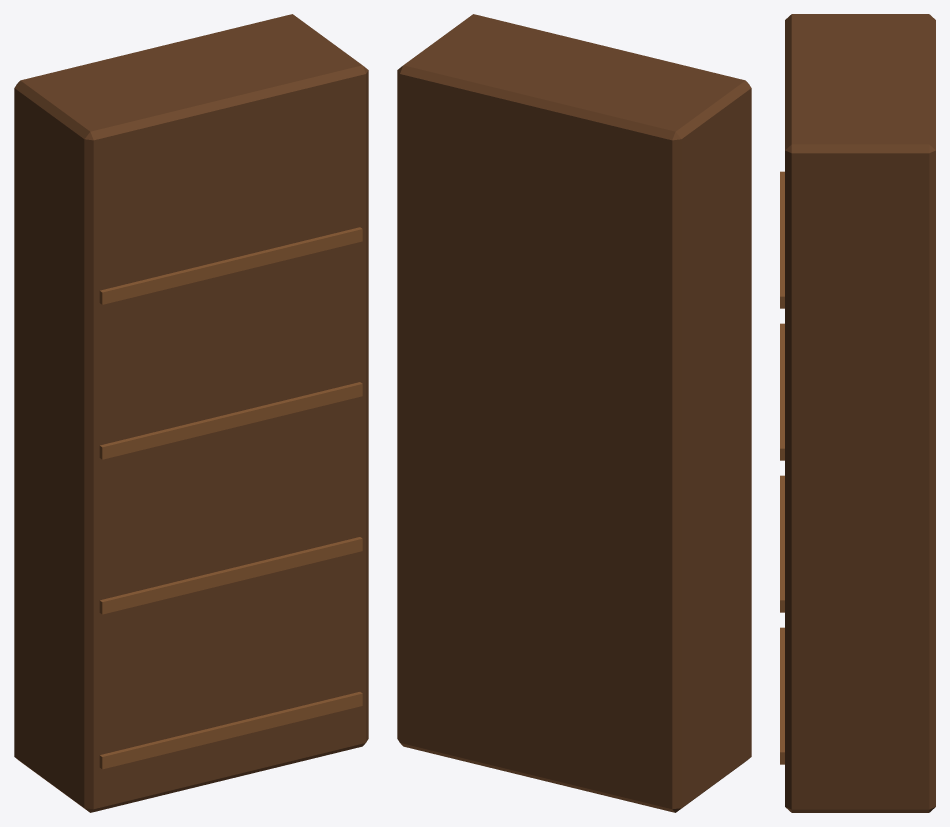
The model's file is furn_bookshelf.glb.
3 renders of one model, left to right at view 1: azimuth 30°, elevation 25°; view 2: azimuth 150°, elevation 25°; view 3: azimuth 270°, elevation 25°, orthographic.
Parts seen in each view (by area): view 1: case, board, board.001, board.002, board.003; view 2: case; view 3: case, board, board.001, board.002, board.003.
Boxes of the visible parts, box(x1,y1,x2,y2) form: case: box(14, 14, 368, 812); board: box(99, 692, 362, 769); board.001: box(99, 537, 362, 614); board.002: box(99, 382, 362, 459); board.003: box(99, 227, 362, 304); case: box(397, 14, 751, 812); case: box(785, 14, 935, 812); board: box(780, 627, 784, 764); board.001: box(780, 475, 784, 612); board.002: box(780, 323, 784, 460); board.003: box(780, 171, 784, 308).
Bounding box in the file's own units: 0.96 × 2.2 × 0.465.
